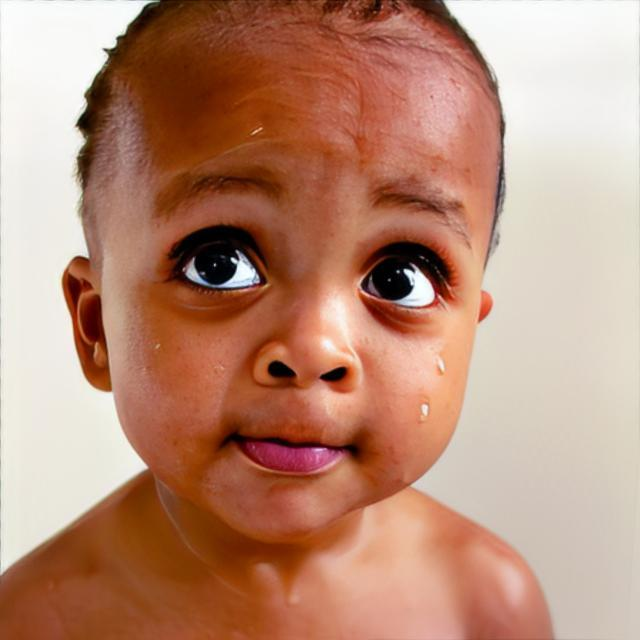surprise: (80, 3, 505, 546)
